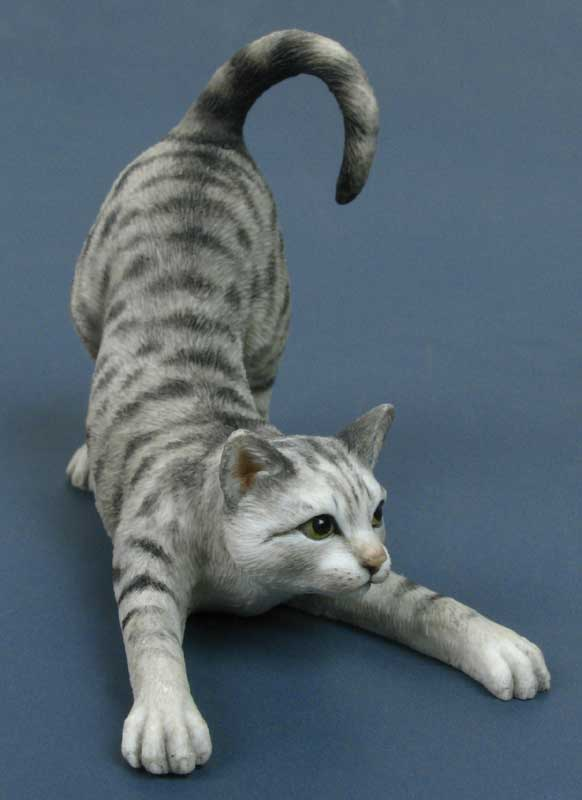cat: (217, 401, 397, 598)
